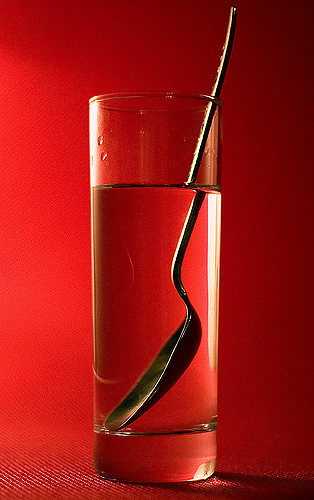glass of water: (91, 102, 222, 487)
